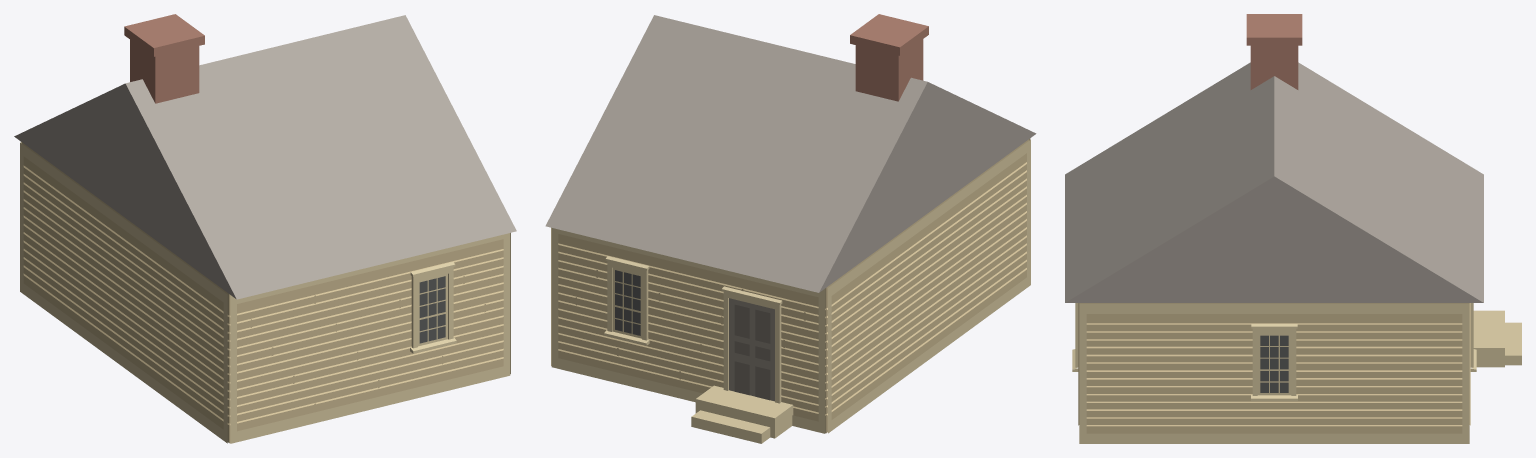
File: recon_1835_blk_washington_franklin_d3_05__inferred_1835.glb
3 views of the same model, side by side, from view 1: azimuth 30°, elevation 25°; view 2: azimuth 150°, elevation 25°; view 3: azimuth 270°, elevation 25° (orthographic). The views are drawn at different scales.
Visible parts, largest first — view 1: recon_1835_blk_washington_franklin_d3_05__inferred_1835; view 2: recon_1835_blk_washington_franklin_d3_05__inferred_1835; view 3: recon_1835_blk_washington_franklin_d3_05__inferred_1835.
Boxes of the visible parts, bbox=[...] form: recon_1835_blk_washington_franklin_d3_05__inferred_1835: bbox=[14, 14, 516, 443]; recon_1835_blk_washington_franklin_d3_05__inferred_1835: bbox=[545, 14, 1036, 443]; recon_1835_blk_washington_franklin_d3_05__inferred_1835: bbox=[1065, 14, 1521, 443].
Bounding box in the file's own units: 5.51 × 5.96 × 8.05.
